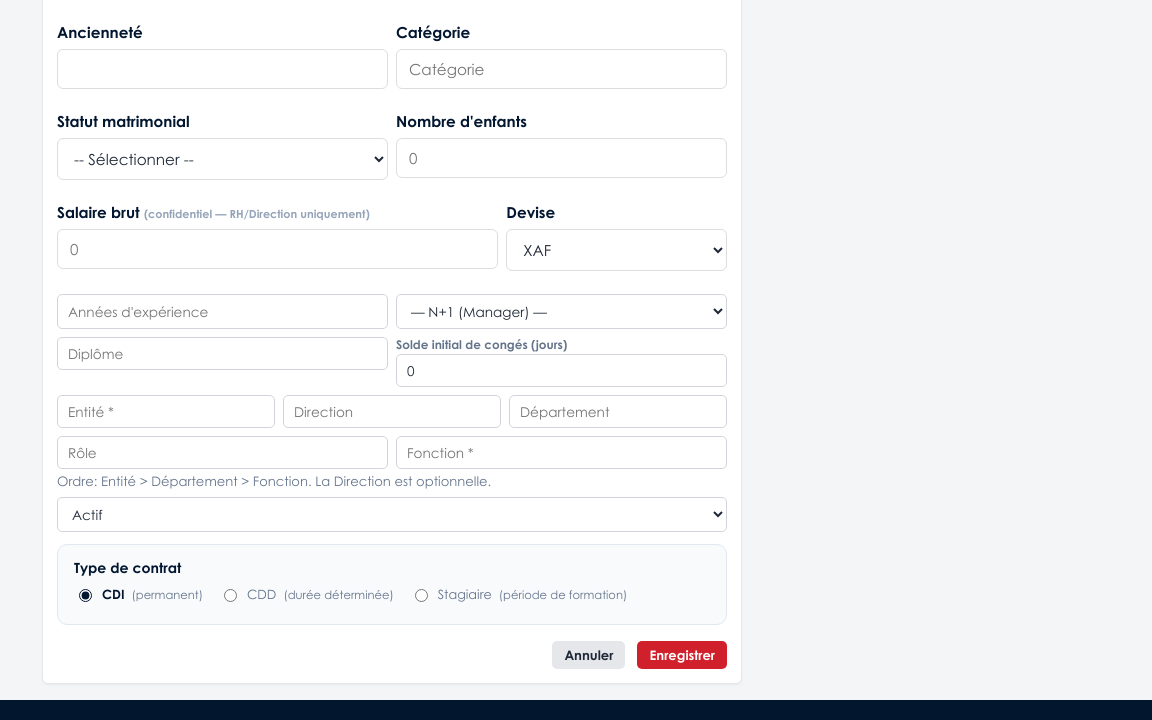
Test case: EmployeeForm › selecting an entité from dropdown does not crash the page
(page scrolled)
Type to open dropdown
Type "EL" into the field with placeholder "Entité *" at coordinates (166, 412), box [57,395,275,428]
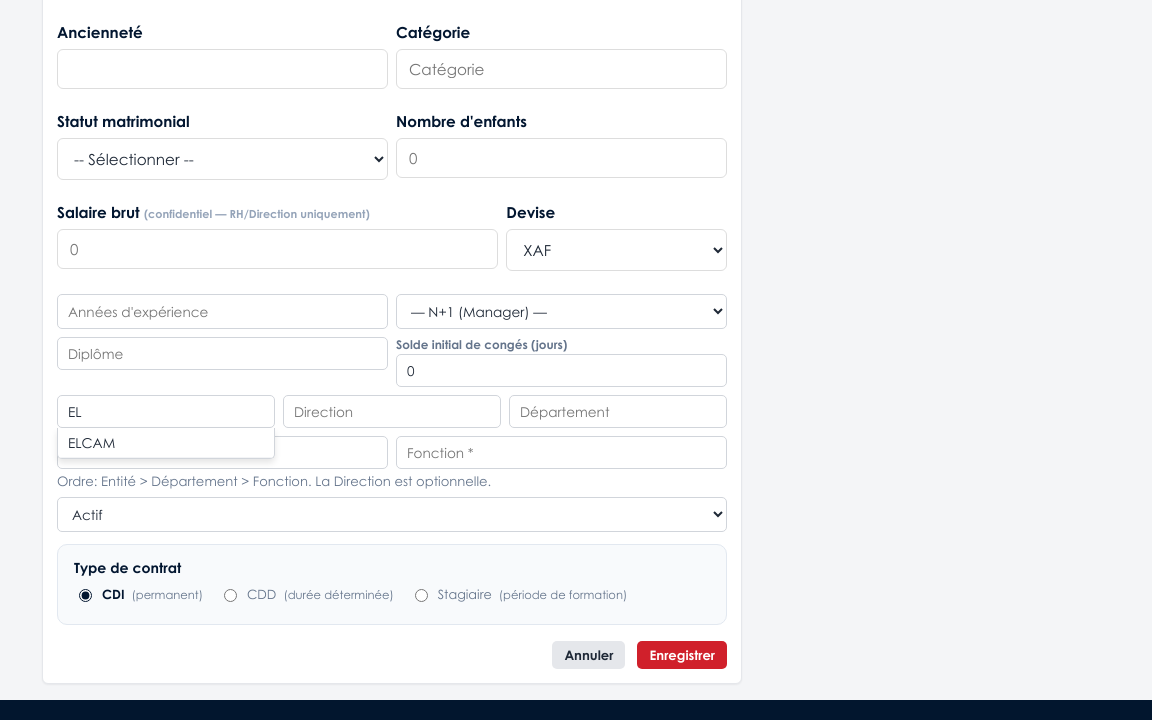
expect the list item "ELCAM" is shown: met
Select it — previously caused blank page due to numeric value crash
Press the mouse on the list item "ELCAM" at coordinates (166, 443), box [58,428,274,458]
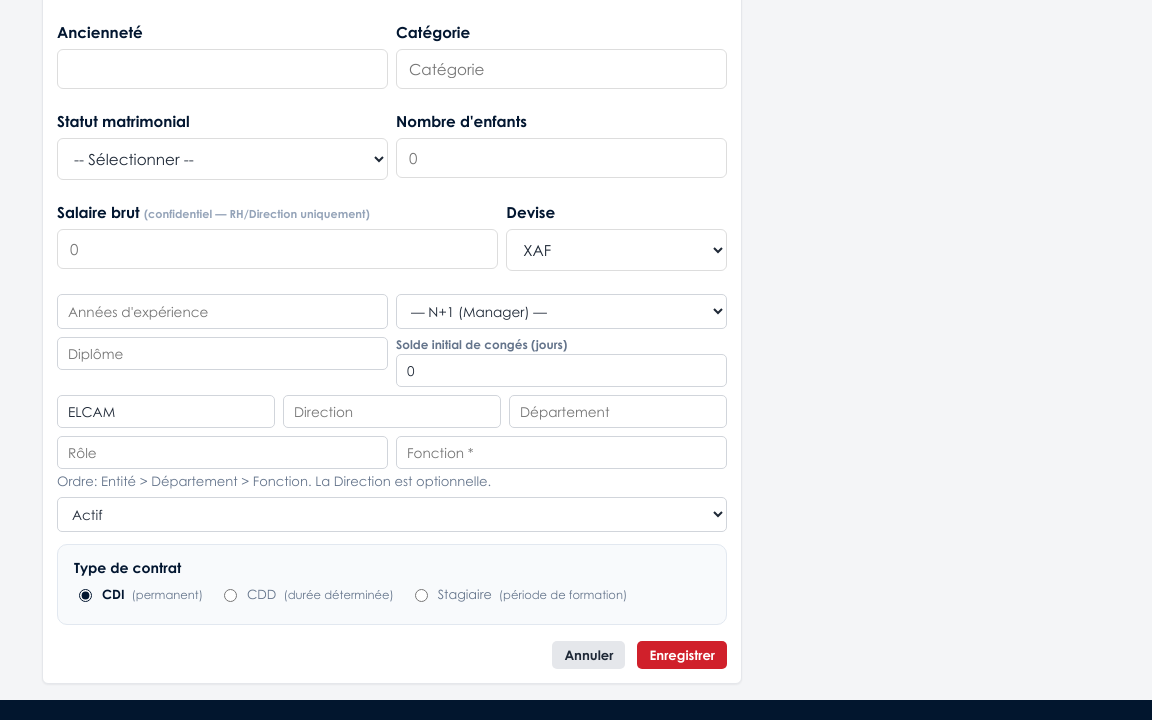
expect the field with placeholder "Direction" is shown: met, box [283,395,501,428]
expect the 2nd field with placeholder "Entité *" holds "ELCAM": met, box [57,395,275,428]
